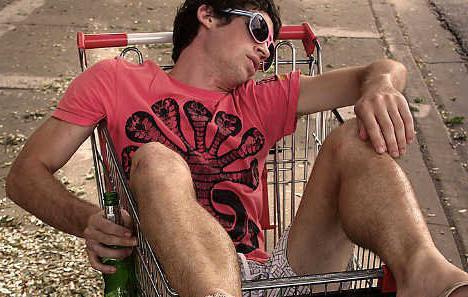Drunk: (220, 5, 272, 86)
